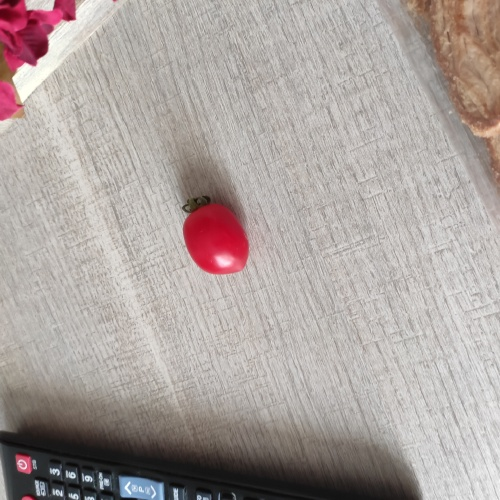pomodoro: (176, 193, 257, 282)
